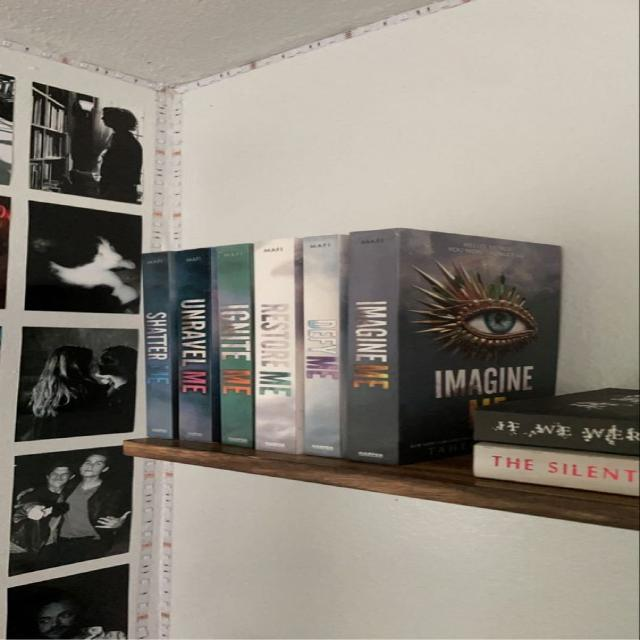book: (349, 229, 396, 461), (254, 238, 301, 453), (302, 236, 345, 457), (212, 243, 254, 448), (474, 444, 638, 495), (175, 247, 214, 442), (478, 411, 640, 456), (142, 252, 174, 440)
